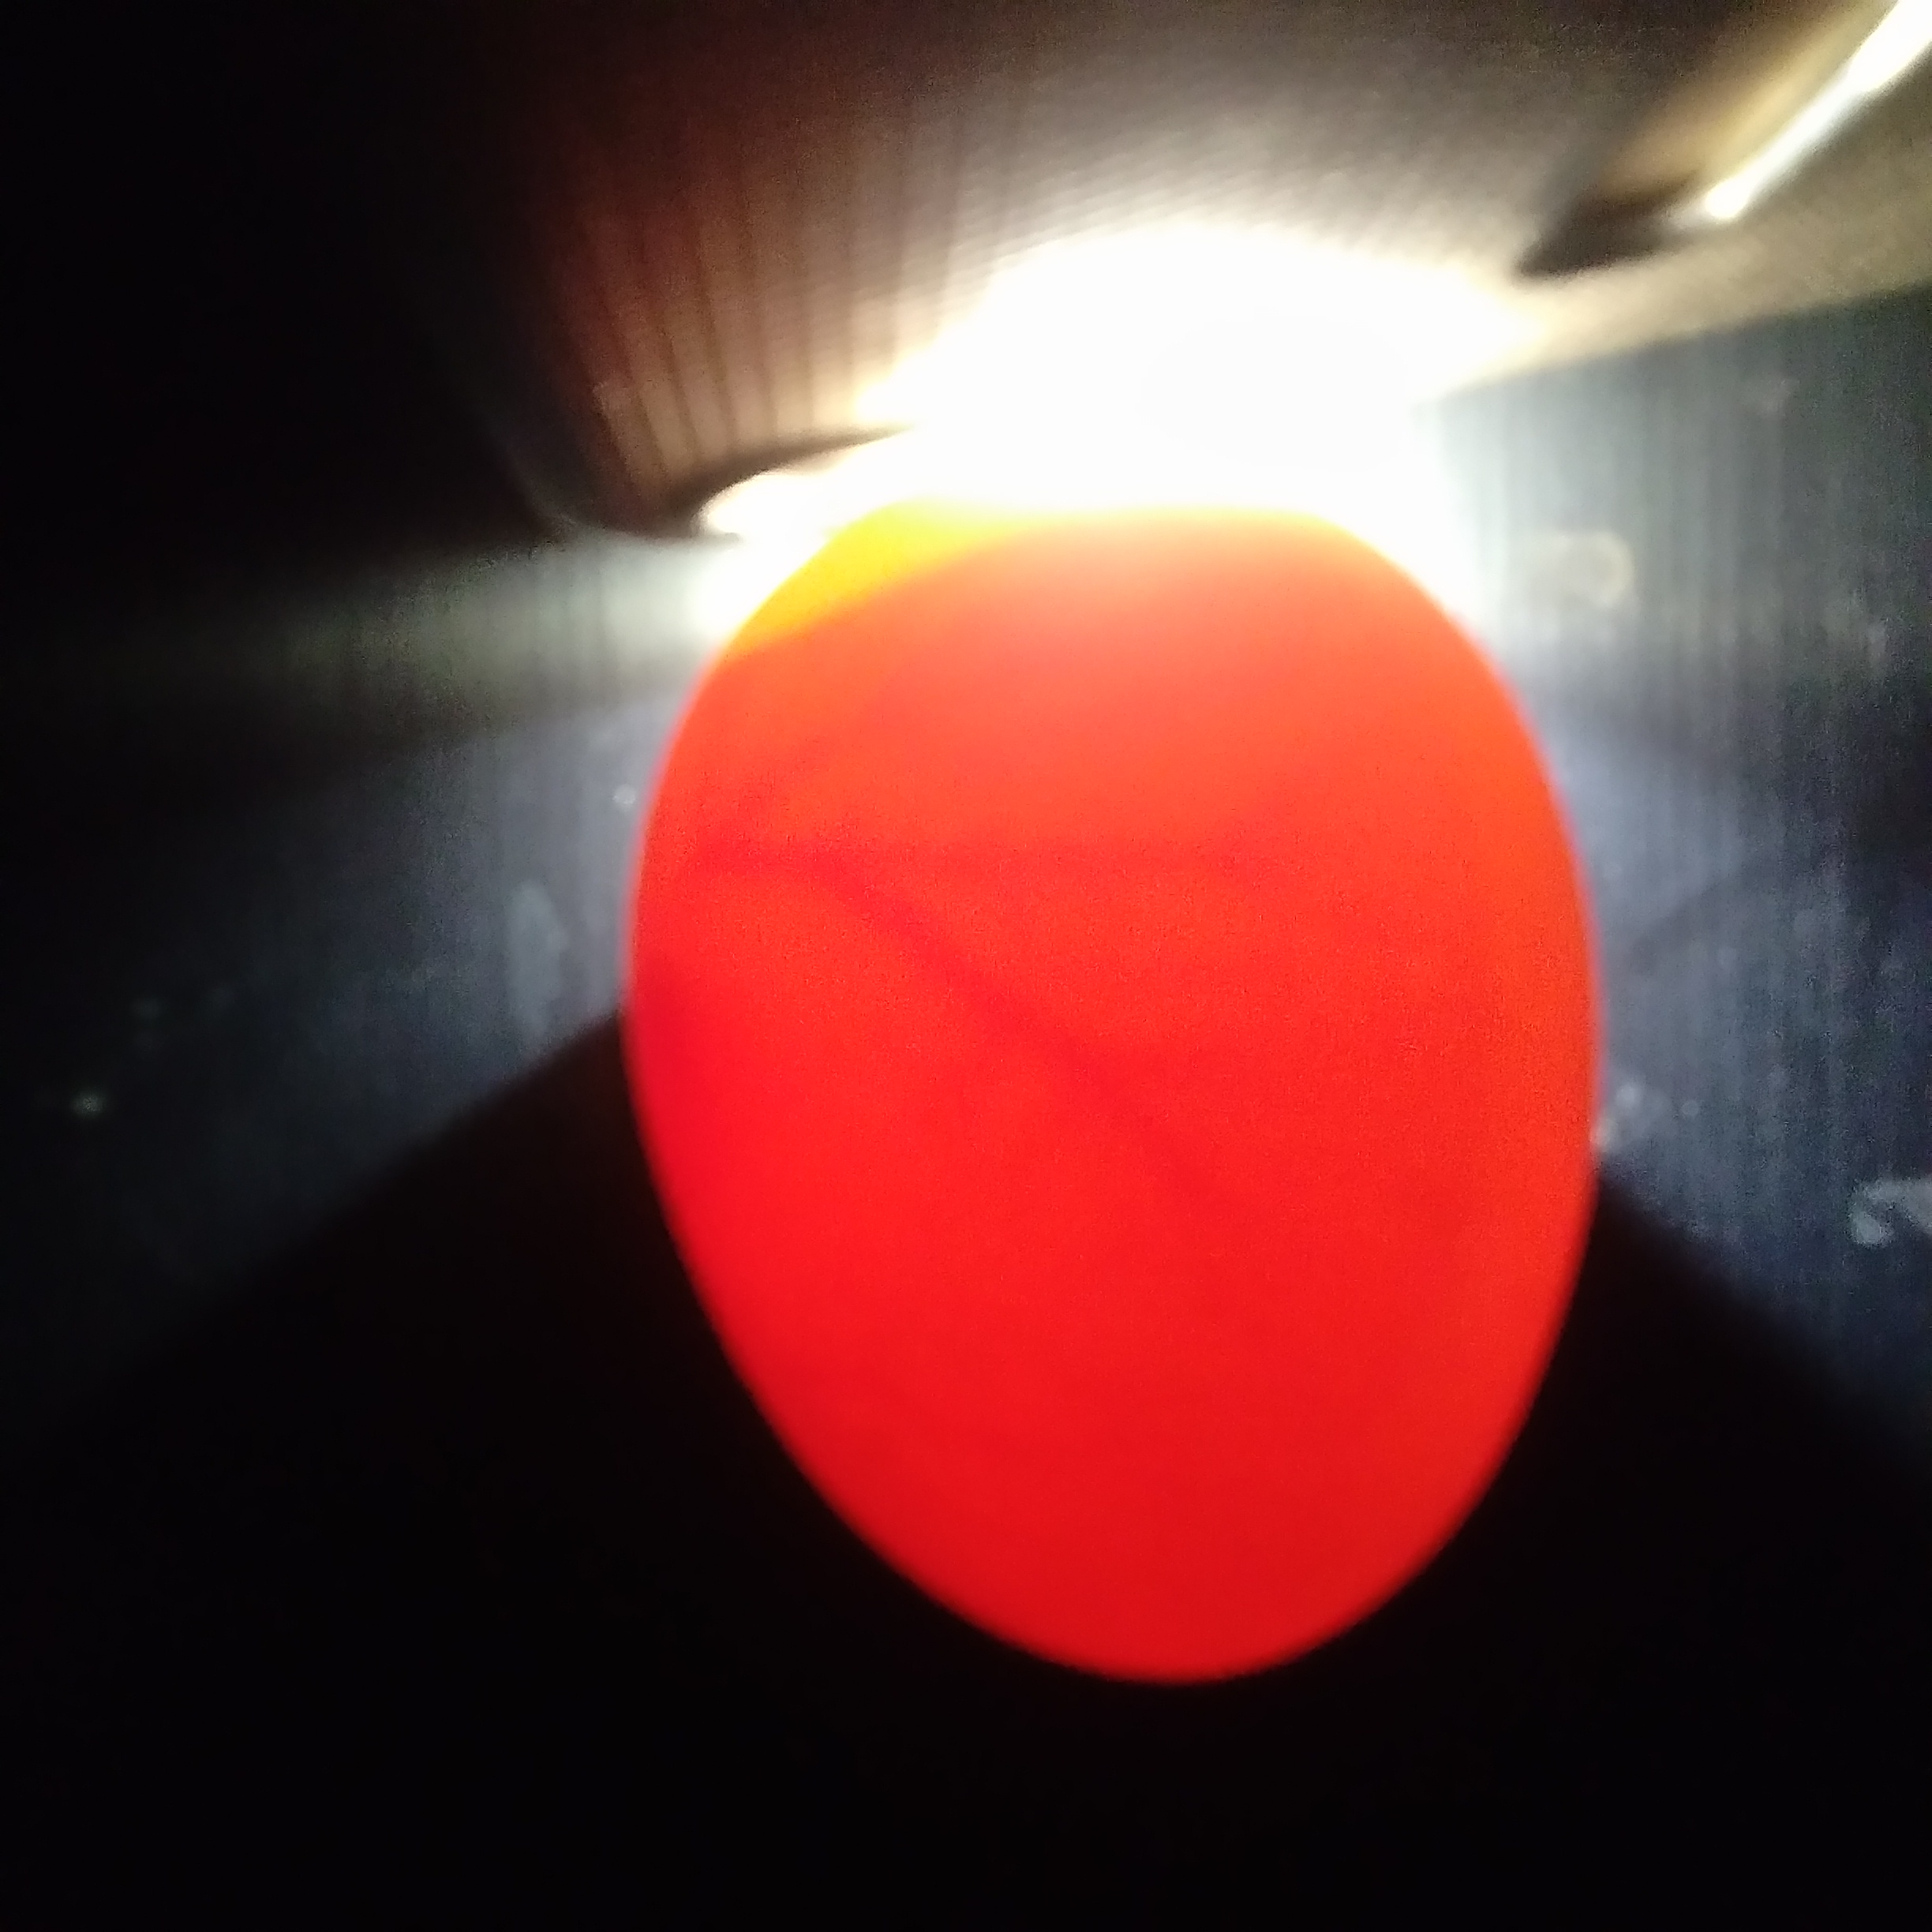bloodcell: (754, 741, 1422, 1173)
